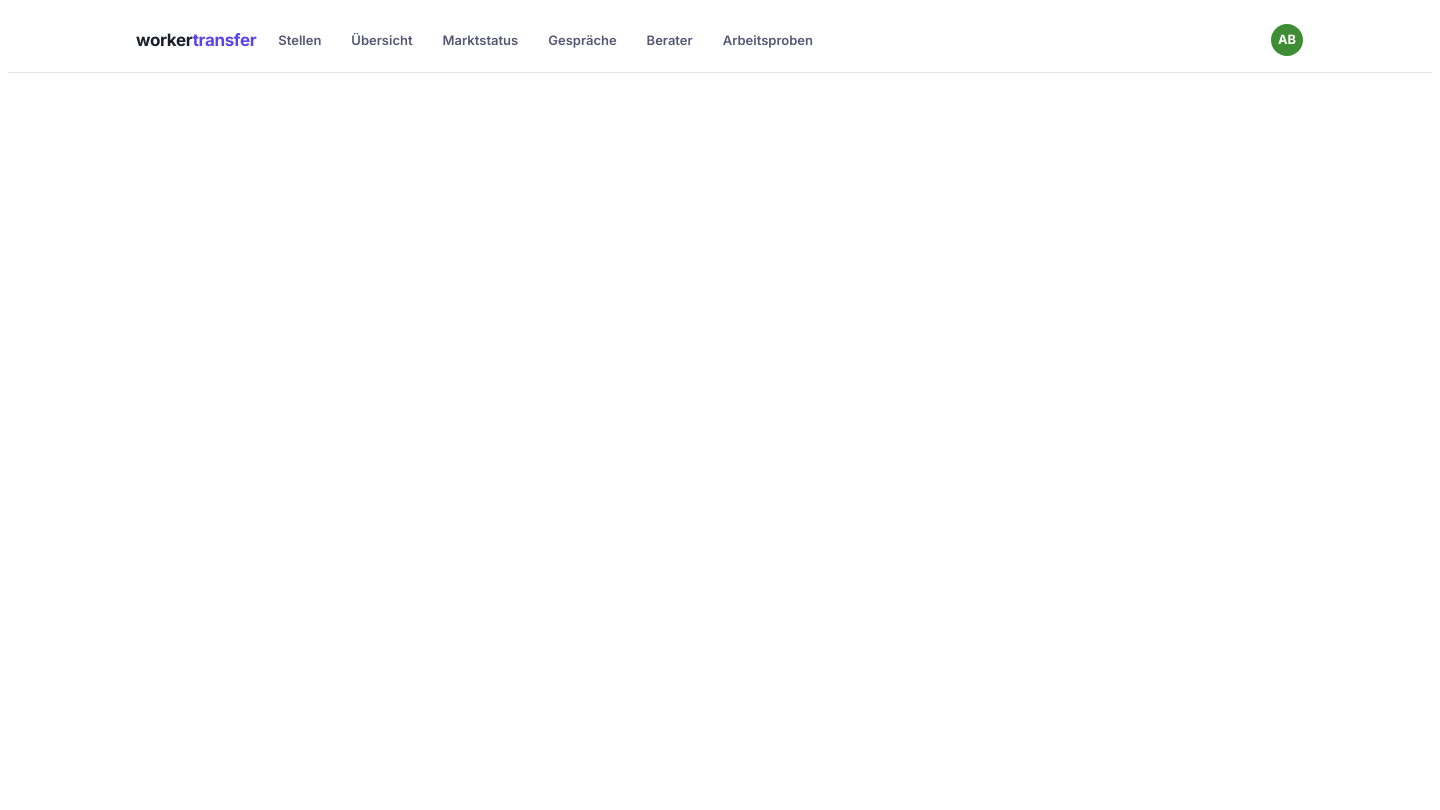
Test: SiteHeader und das Berufsfeld › zeigt GitHub, solange niemand ein Berufsfeld genannt hat
Click the button with aria-label "Mein Konto". click: (1287, 40)
box: [1270,23,1304,57]
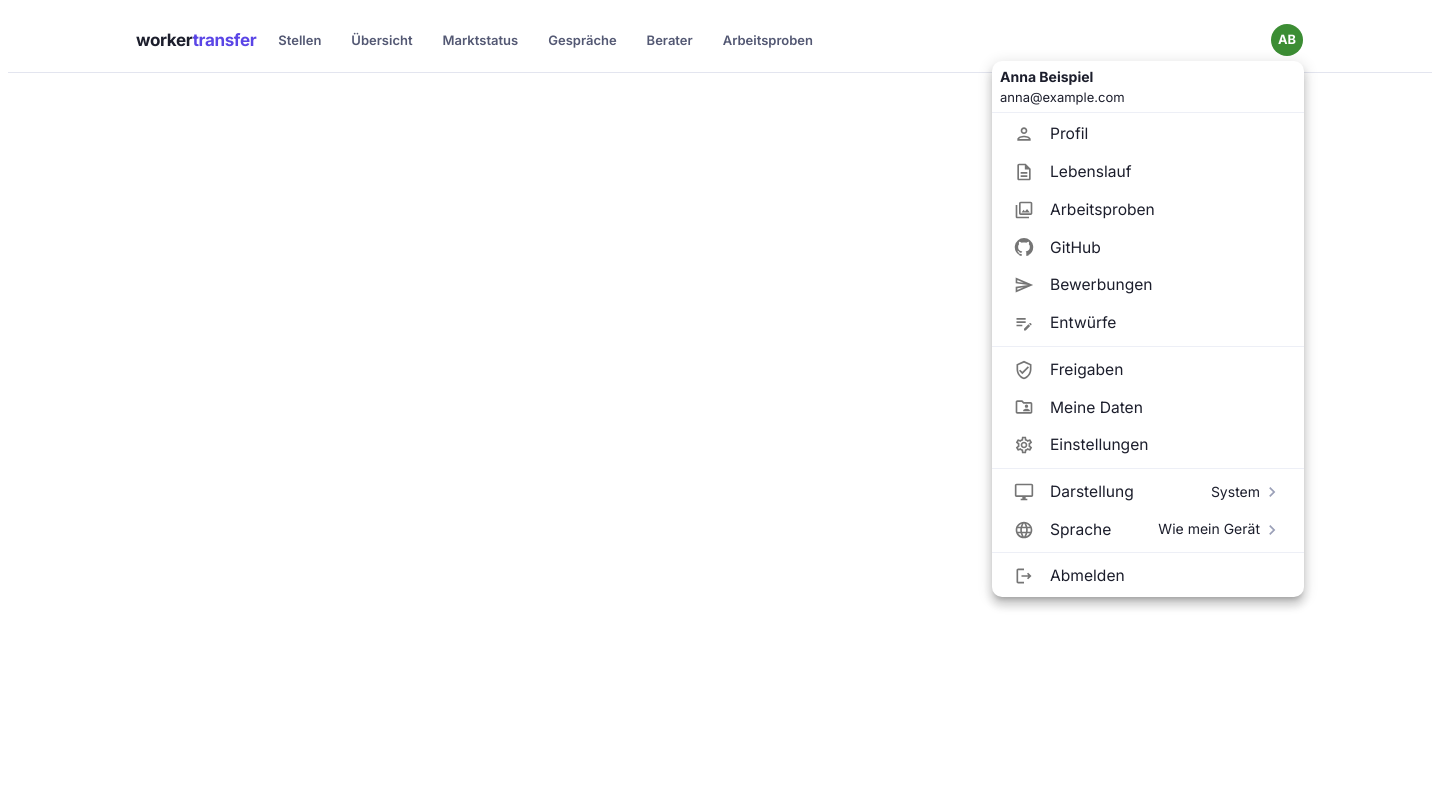
Now the menu item "GitHub" is shown, box [1014,238,1101,258]
